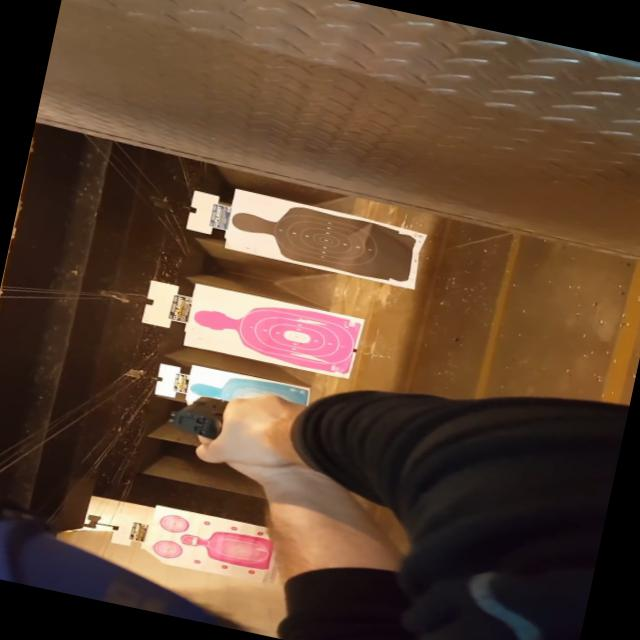handgun: (146, 378, 304, 458)
